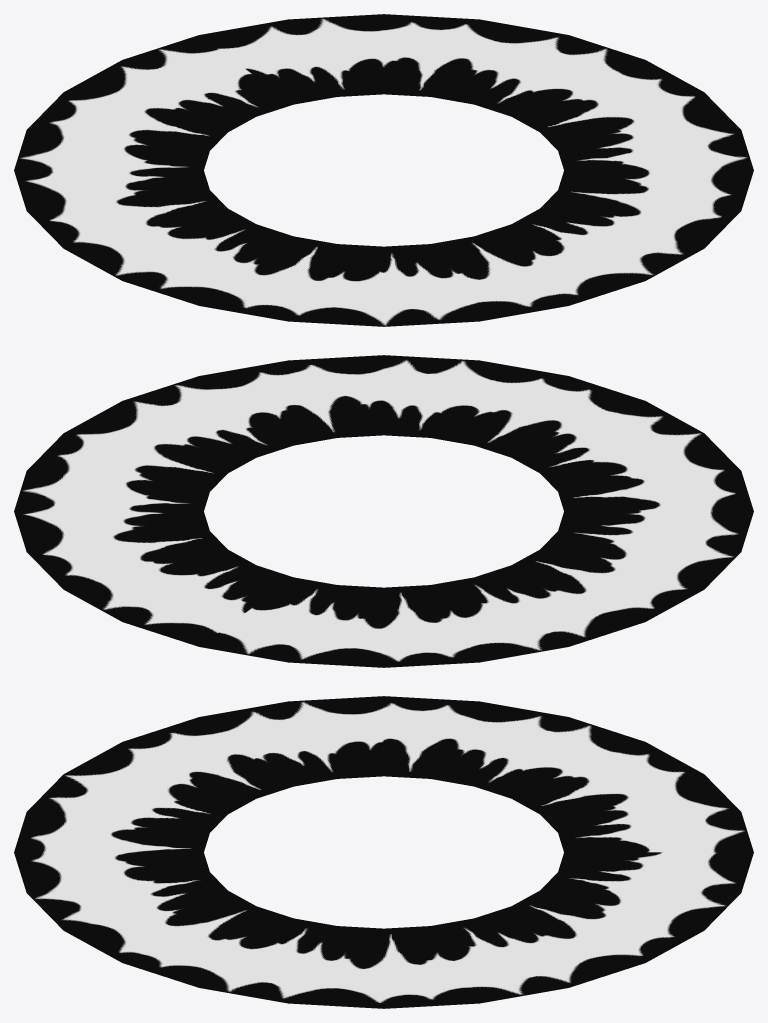
File: mesh_ly_ring02.FBX
3 renders of one model, top to bottom at view 1: azimuth 30°, elevation 25°; view 2: azimuth 150°, elevation 25°; view 3: azimuth 270°, elevation 25°, orthographic.
Parts seen in each view (by area): view 1: mesh_ly_ring02; view 2: mesh_ly_ring02; view 3: mesh_ly_ring02.
Boxes of the visible parts, x1,y1,x2,y2 form: mesh_ly_ring02: [14, 14, 753, 326]; mesh_ly_ring02: [14, 355, 753, 667]; mesh_ly_ring02: [14, 696, 753, 1008].
Bounding box in the file's own units: 100 × 6.12e-15 × 100.
